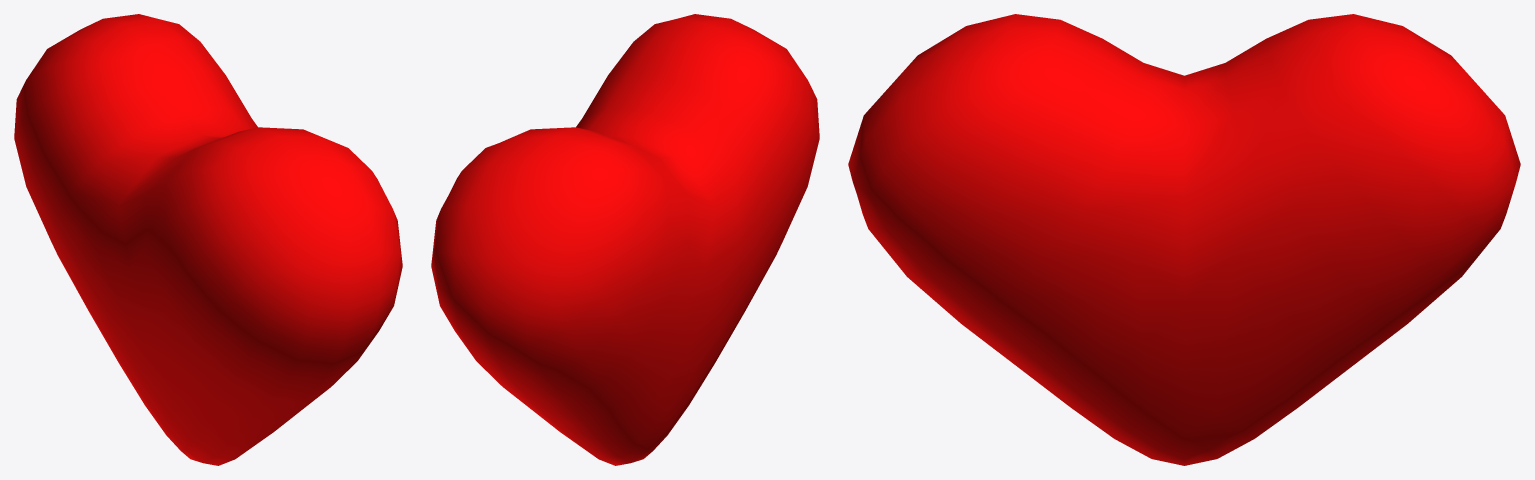
File: heart.glb
3 views of the same model, side by side, from view 1: azimuth 30°, elevation 25°; view 2: azimuth 150°, elevation 25°; view 3: azimuth 270°, elevation 25° (orthographic). The views are drawn at different scales.
Parts seen in each view (by area): view 1: 立方体; view 2: 立方体; view 3: 立方体.
Boxes of the visible parts, <box> form: 立方体: <box>14,14,402,465</box>; 立方体: <box>431,14,819,465</box>; 立方体: <box>848,14,1520,465</box>.
Size of the model in its own units: 0.9096 by 1.73 by 2.41.
